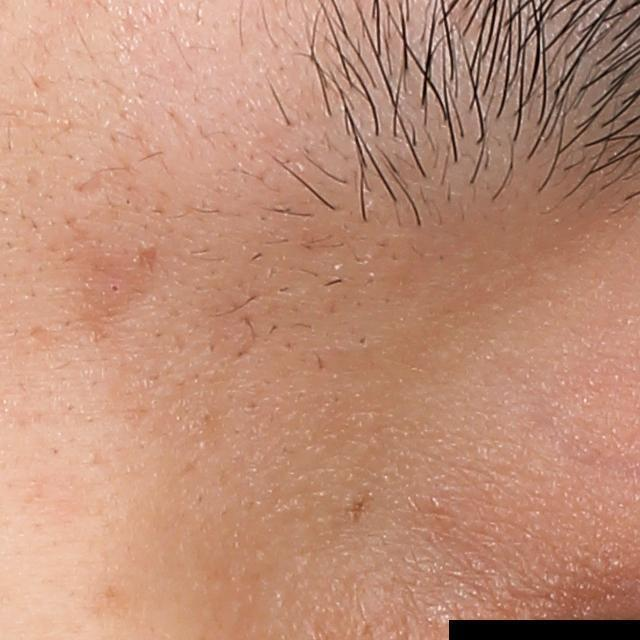atrophic_scar: (67, 159, 110, 204), (134, 237, 164, 277)
